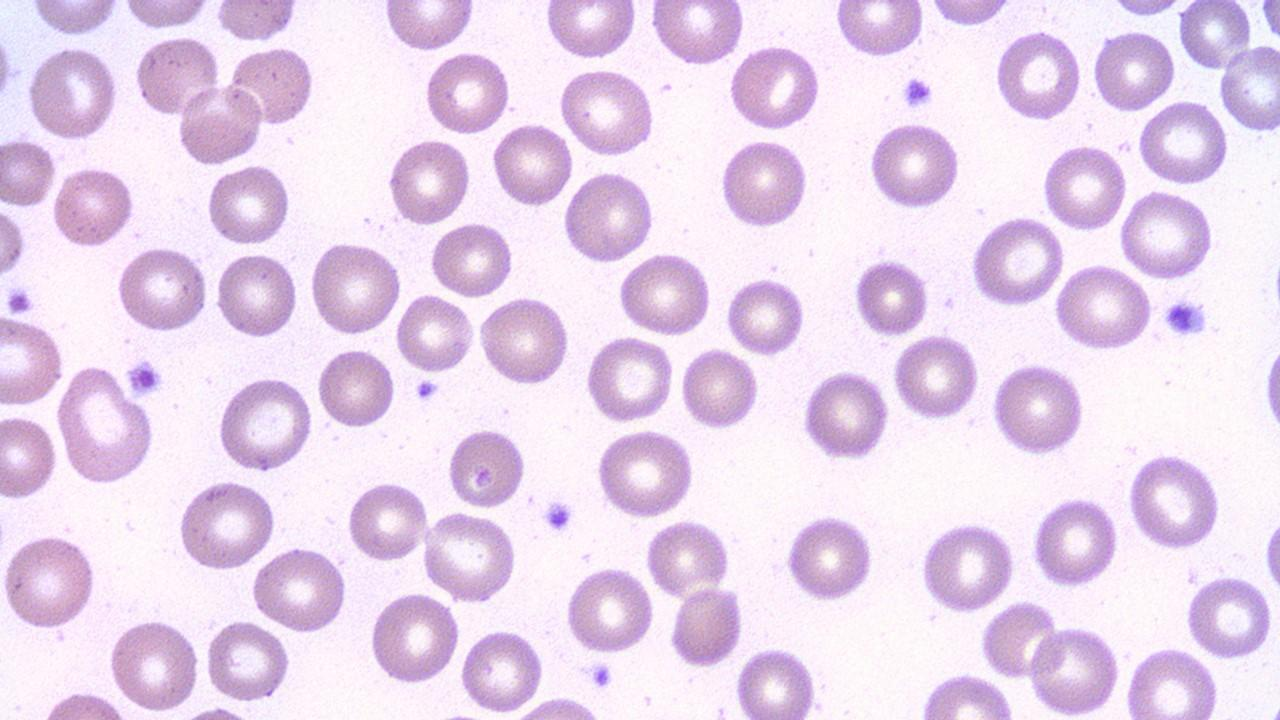Platelets: (1159, 296, 1209, 340), (125, 355, 165, 397), (542, 497, 576, 536), (900, 74, 934, 110), (3, 282, 37, 316), (588, 658, 615, 691), (414, 377, 440, 401)
RBC: (53, 362, 156, 487), (1, 527, 98, 634), (213, 373, 314, 474), (106, 614, 203, 716), (1124, 452, 1224, 550), (175, 477, 277, 573), (916, 518, 1017, 614), (306, 237, 402, 338), (418, 509, 520, 604), (560, 169, 658, 266), (990, 360, 1087, 458), (366, 589, 462, 687), (1116, 188, 1216, 282), (1051, 262, 1155, 352), (594, 428, 698, 518), (248, 544, 350, 635), (476, 292, 572, 388), (1025, 622, 1123, 716), (717, 135, 811, 233), (26, 43, 119, 142), (968, 215, 1065, 309), (558, 65, 656, 158), (798, 366, 892, 462), (992, 27, 1084, 124), (1030, 492, 1120, 590), (783, 511, 877, 604), (563, 562, 656, 656), (113, 244, 210, 334), (866, 119, 960, 211), (728, 43, 824, 133), (1135, 97, 1231, 187), (583, 333, 675, 426), (890, 331, 980, 424), (1183, 572, 1275, 662), (458, 623, 546, 716), (616, 251, 712, 336), (212, 250, 302, 340), (422, 48, 512, 138), (1040, 142, 1128, 234), (384, 136, 472, 227), (50, 162, 137, 252), (204, 616, 292, 704), (490, 119, 575, 210), (176, 81, 264, 168), (132, 34, 219, 121), (205, 161, 292, 248), (226, 44, 316, 128), (643, 516, 732, 600), (1120, 646, 1224, 717), (345, 478, 430, 564), (1090, 27, 1174, 114), (978, 596, 1063, 680), (679, 344, 760, 432), (446, 424, 528, 510), (316, 344, 397, 431), (724, 274, 807, 358), (394, 291, 476, 376), (666, 582, 745, 670), (429, 219, 514, 300), (731, 642, 821, 718), (850, 254, 930, 339), (648, 1, 747, 68), (1, 310, 67, 408), (542, 2, 638, 63), (832, 1, 927, 61), (1218, 42, 1280, 132), (0, 410, 59, 502), (1177, 0, 1251, 72), (382, 1, 476, 54), (914, 671, 1021, 717), (3, 136, 58, 210), (210, 2, 305, 44), (28, 0, 122, 38), (119, 0, 214, 30), (922, 0, 1018, 28), (0, 199, 27, 287), (0, 16, 17, 111)
WBC: (225, 43, 318, 126), (208, 1, 308, 41)
